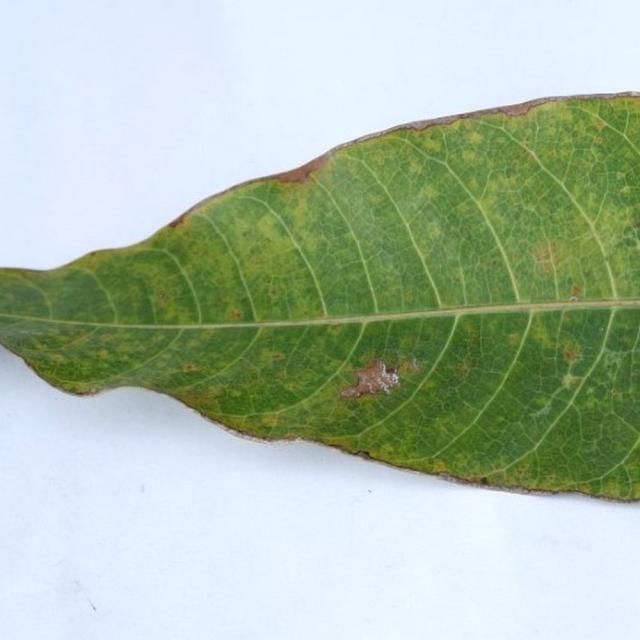Mango: (0, 95, 639, 501)
Powdery_Mildew: (228, 200, 328, 272), (34, 266, 119, 328), (3, 272, 57, 325), (341, 358, 406, 398), (67, 245, 143, 268), (589, 344, 639, 378), (272, 156, 327, 185), (324, 251, 383, 277), (70, 577, 101, 615), (534, 245, 567, 278), (252, 213, 286, 241), (496, 101, 541, 117), (556, 372, 587, 395), (413, 183, 446, 202), (530, 398, 558, 419), (468, 125, 490, 151), (611, 232, 636, 251), (407, 119, 442, 132), (562, 343, 583, 363), (455, 266, 473, 288), (166, 211, 188, 229), (404, 157, 425, 174), (463, 130, 485, 146), (464, 322, 482, 341), (340, 384, 364, 398), (460, 149, 480, 165), (401, 357, 421, 373), (369, 357, 387, 374), (534, 247, 554, 262), (261, 414, 280, 427), (456, 360, 473, 374), (568, 283, 582, 300), (433, 460, 451, 473), (353, 449, 374, 460), (535, 396, 552, 408), (237, 298, 251, 312), (49, 353, 66, 364), (227, 389, 244, 400), (324, 318, 345, 326), (608, 299, 631, 306), (270, 352, 286, 362), (579, 483, 595, 493), (407, 334, 420, 346), (385, 364, 398, 376), (95, 349, 110, 359), (612, 390, 628, 399), (84, 250, 100, 259), (507, 332, 521, 342), (229, 309, 243, 319), (282, 432, 301, 439), (619, 185, 632, 195), (594, 134, 606, 144), (184, 364, 198, 372), (156, 292, 166, 302), (459, 303, 478, 308), (480, 476, 490, 485), (268, 288, 277, 297), (366, 382, 374, 392), (562, 314, 573, 321), (329, 324, 340, 331), (635, 219, 640, 229), (492, 259, 499, 266), (90, 387, 97, 393), (600, 327, 604, 331)
